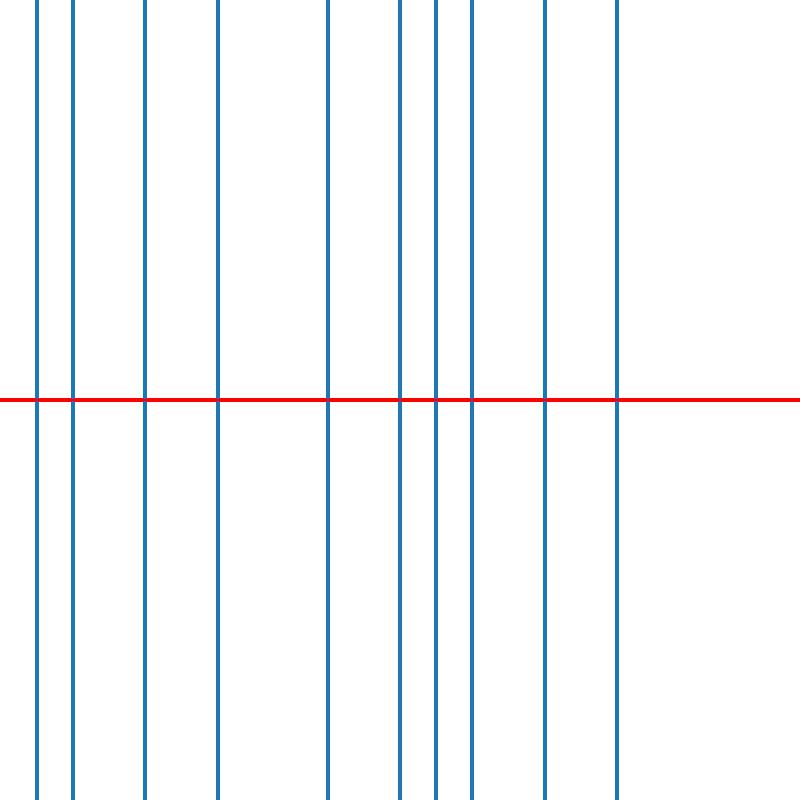root: (32, 396, 40, 404), (541, 396, 549, 404), (432, 396, 440, 404), (141, 396, 149, 404), (396, 396, 403, 404), (69, 396, 76, 404), (469, 396, 476, 404), (323, 396, 330, 404), (614, 396, 621, 404), (214, 396, 221, 404)
